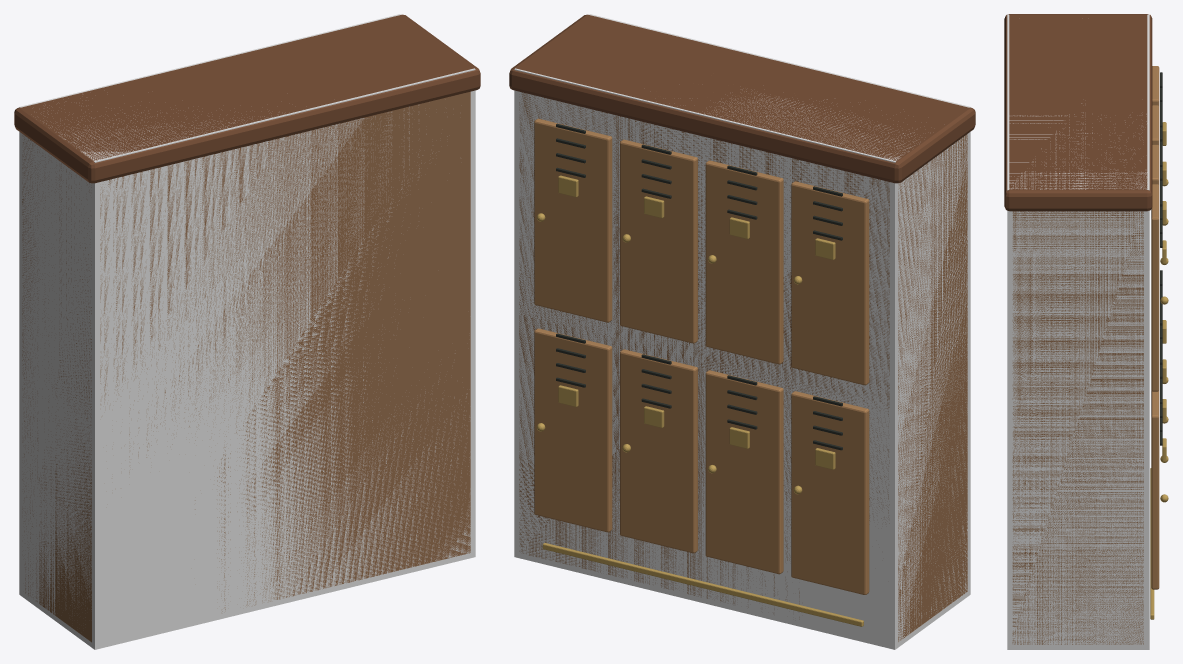
Rendered from luxury.glb.
3 renders of one model, left to right at view 1: azimuth 30°, elevation 25°; view 2: azimuth 150°, elevation 25°; view 3: azimuth 270°, elevation 25°, orthographic. The views are drawn at different scales.
Parts seen in each view (by area): view 1: COL_LOCKER_UNITS_LUXURY, Lockers_Carcass.003, Locker_Crown; view 2: COL_LOCKER_UNITS_LUXURY, Lockers_Carcass.003, Locker_Crown, Locker_Door_1_3, Locker_Door_1_0.001, Locker_Door_0_3, Locker_Door_0_0.003, Locker_Door_1_1.001, Locker_Door_0_1.003, Locker_Door_1_2.001, Locker_Door_0_2.002, Lockers_BrassToeKick; view 3: COL_LOCKER_UNITS_LUXURY, Lockers_Carcass.003, Locker_Crown, Locker_Door_1_3, Locker_Door_0_3, Lockers_BrassToeKick, Locker_Door_1_2.001, Locker_Door_1_0.001, Locker_Door_1_1.001.
Part boxes in pixels (x1=…): COL_LOCKER_UNITS_LUXURY: x1=19, y1=14, x2=475, y2=649; Lockers_Carcass.003: x1=22, y1=91, x2=470, y2=642; Locker_Crown: x1=14, y1=14, x2=480, y2=183; COL_LOCKER_UNITS_LUXURY: x1=514, y1=14, x2=970, y2=649; Lockers_Carcass.003: x1=519, y1=88, x2=967, y2=641; Locker_Crown: x1=509, y1=14, x2=975, y2=183; Locker_Door_1_3: x1=534, y1=118, x2=612, y2=322; Locker_Door_1_0.001: x1=791, y1=181, x2=869, y2=385; Locker_Door_0_3: x1=534, y1=328, x2=612, y2=532; Locker_Door_0_0.003: x1=791, y1=391, x2=869, y2=594; Locker_Door_1_1.001: x1=705, y1=160, x2=783, y2=364; Locker_Door_0_1.003: x1=705, y1=370, x2=783, y2=574; Locker_Door_1_2.001: x1=620, y1=139, x2=697, y2=343; Locker_Door_0_2.002: x1=620, y1=349, x2=697, y2=553; Lockers_BrassToeKick: x1=542, y1=543, x2=863, y2=626; COL_LOCKER_UNITS_LUXURY: x1=1007, y1=14, x2=1149, y2=649; Lockers_Carcass.003: x1=1012, y1=211, x2=1143, y2=644; Locker_Crown: x1=1004, y1=14, x2=1152, y2=211; Locker_Door_1_3: x1=1151, y1=184, x2=1159, y2=391; Locker_Door_0_3: x1=1151, y1=390, x2=1159, y2=589; Lockers_BrassToeKick: x1=1150, y1=468, x2=1154, y2=619; Locker_Door_1_2.001: x1=1152, y1=144, x2=1159, y2=185; Locker_Door_1_0.001: x1=1152, y1=66, x2=1159, y2=106; Locker_Door_1_1.001: x1=1152, y1=105, x2=1159, y2=145.
Size of the model in its own units: 1.87 by 2.23 by 0.7195.
